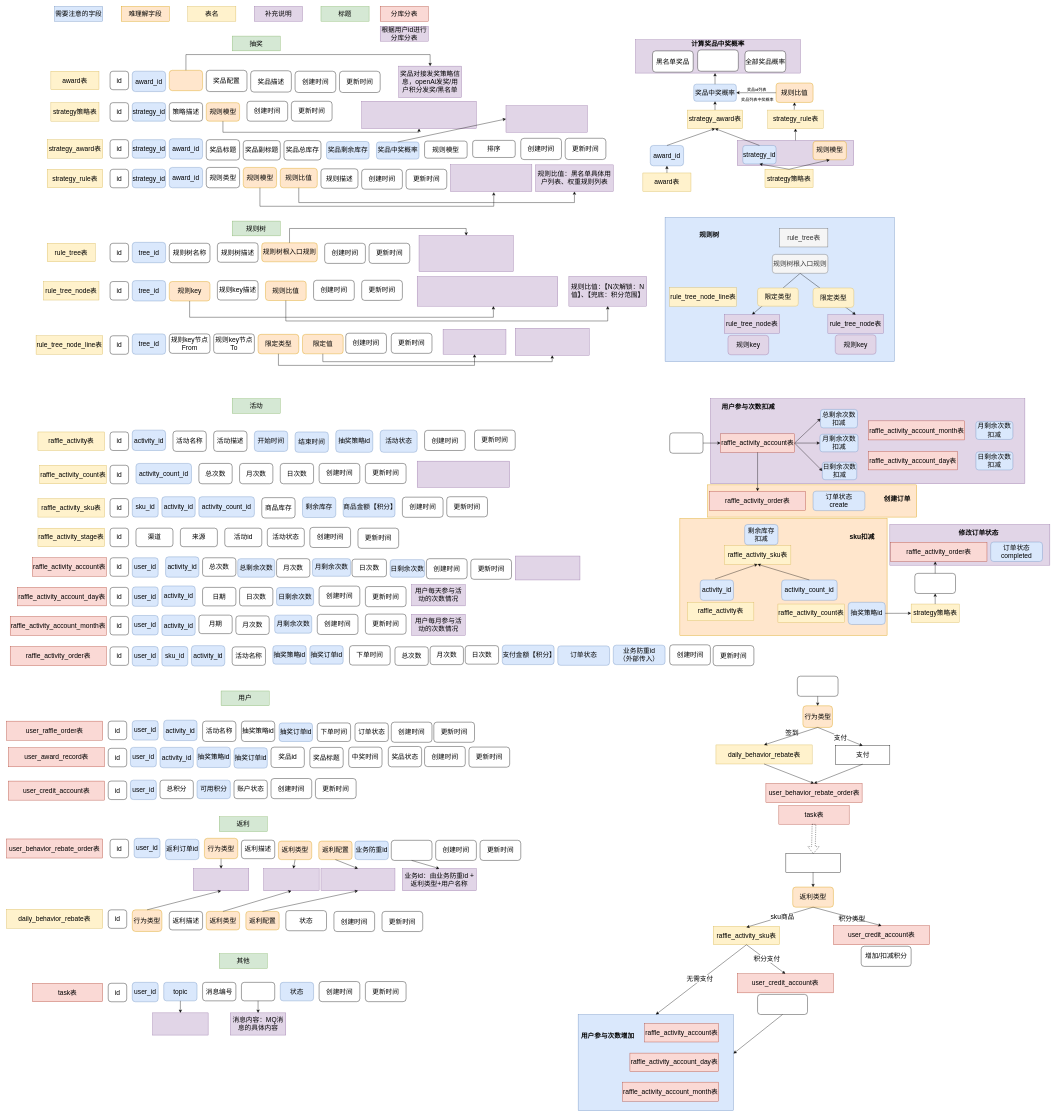
The diagram is 1056 pixels wide and 1117 high, and some of its shapes have lost their labels. Here are the shapes that lost their labels. From the top down, the centre of each, then its label:
point 186,80: award_key
point 717,60: O(1)/O(logN)存储算法
point 418,115: 抽奖规则类型：【随机值计算、抽奖N次解锁、幸运奖、黑名单等】，每个策略可以包含多个抽奖规则类型
point 546,118: 奖品中奖概率：相对概率，使用数值相对表明概率大小
point 491,177: 规则模型：黑名单/权重规则/抽奖N次等其中一种规则
point 466,253: 规则树根入口规则：根节点规则（锁规则/库存规则）【用于检查N次解锁或检查库存是否足够】
point 487,291: 规则树节点规则：节点规则（锁规则/库存规则）【用于检查N次解锁或检查库存是否足够/兜底】
point 474,341: 限定类型：大于/等于/小于/枚举值
point 552,341: 限定值：允许到达下一个节点/已到达叶子节点
point 686,443: 参与活动
point 463,474: 总次数/月次数/日次数：统计sku商品的不同时段的兑换次数
point 547,568: 用户在不同时段可以参与活动的次数情况
point 935,583: 中奖
point 817,686: 返利操作
point 411,850: 业务id
point 813,862: MQ消息
point 221,879: 行为类型：返利的动作（签到/支付）
point 291,879: 返利类型：返利的结果（sku/积分）
point 358,879: 返利配置：返利的数值 (增加/扣减的sku类别/积分值)
point 258,991: 消息内容
point 782,1004: 扣减积分
point 180,1024: topic：区分不同的MQ消息
